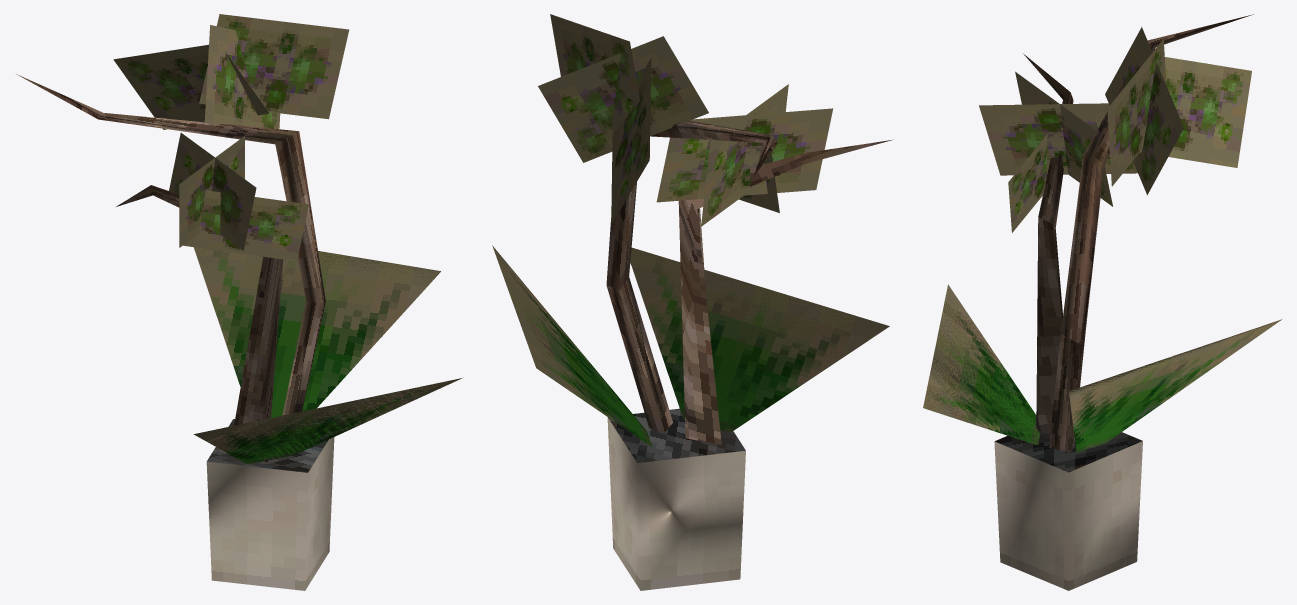
The model's file is frn_all_tree_potted_s2_l3.fbx.
3 views of the same model, side by side, from view 1: azimuth 30°, elevation 25°; view 2: azimuth 150°, elevation 25°; view 3: azimuth 270°, elevation 25° (orthographic). The views are drawn at different scales.
Visible parts, largest first — view 1: mesh_node; view 2: mesh_node; view 3: mesh_node.
Boxes of the visible parts, bbox=[...] form: mesh_node: bbox=[16, 14, 463, 590]; mesh_node: bbox=[492, 14, 893, 590]; mesh_node: bbox=[923, 14, 1281, 590].
Size of the model in its own units: 1.74 by 2.47 by 1.54.
